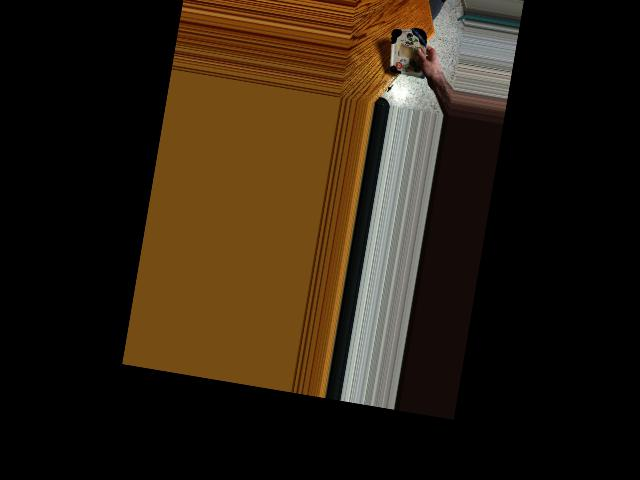cheese: (388, 23, 432, 85)
